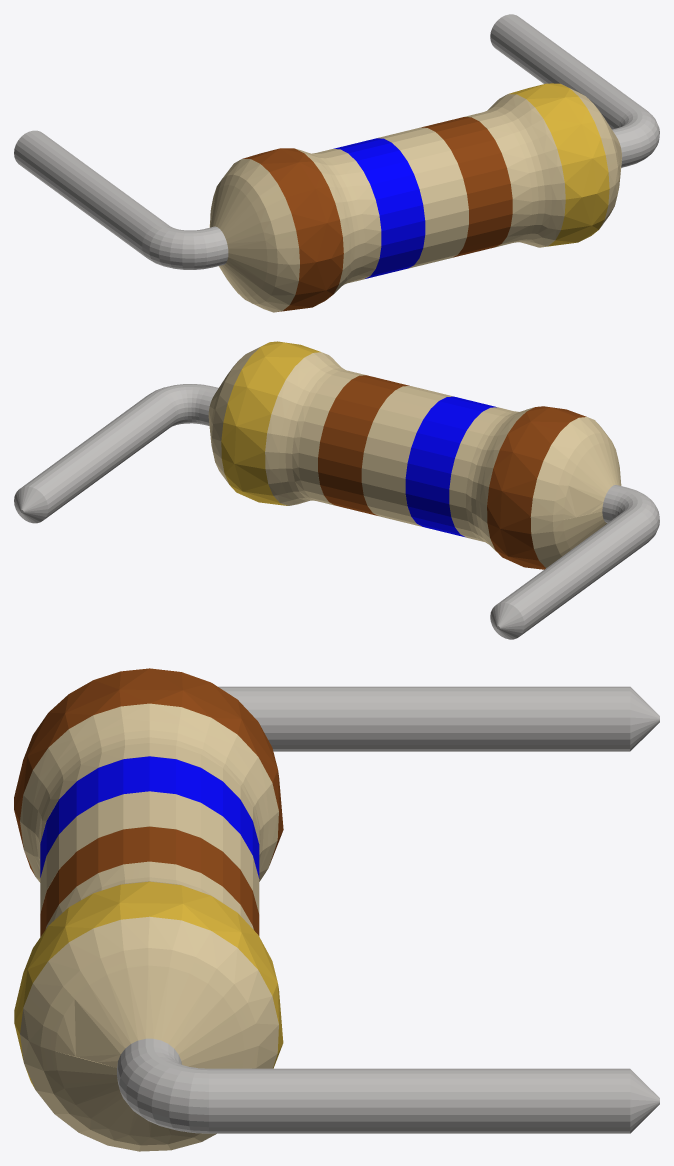
The model's file is Yageo CFR-25 Resistor Axial P7.62mm 160,0 Ohm.obj.
3 renders of one model, top to bottom at view 1: azimuth 30°, elevation 25°; view 2: azimuth 150°, elevation 25°; view 3: azimuth 270°, elevation 25°, orthographic. The views are drawn at different scales.
Parts seen in each view (by area): view 1: Yageo_CFR-25_Resistor_Axial_P7.62mm_160,0_Ohm; view 2: Yageo_CFR-25_Resistor_Axial_P7.62mm_160,0_Ohm; view 3: Yageo_CFR-25_Resistor_Axial_P7.62mm_160,0_Ohm.
Boxes of the visible parts, <box> form: Yageo_CFR-25_Resistor_Axial_P7.62mm_160,0_Ohm: <box>14,14,659,312</box>; Yageo_CFR-25_Resistor_Axial_P7.62mm_160,0_Ohm: <box>14,341,659,639</box>; Yageo_CFR-25_Resistor_Axial_P7.62mm_160,0_Ohm: <box>14,668,659,1151</box>.
Bounding box in the file's own units: 0.0213 × 0.00586 × 0.0142.
